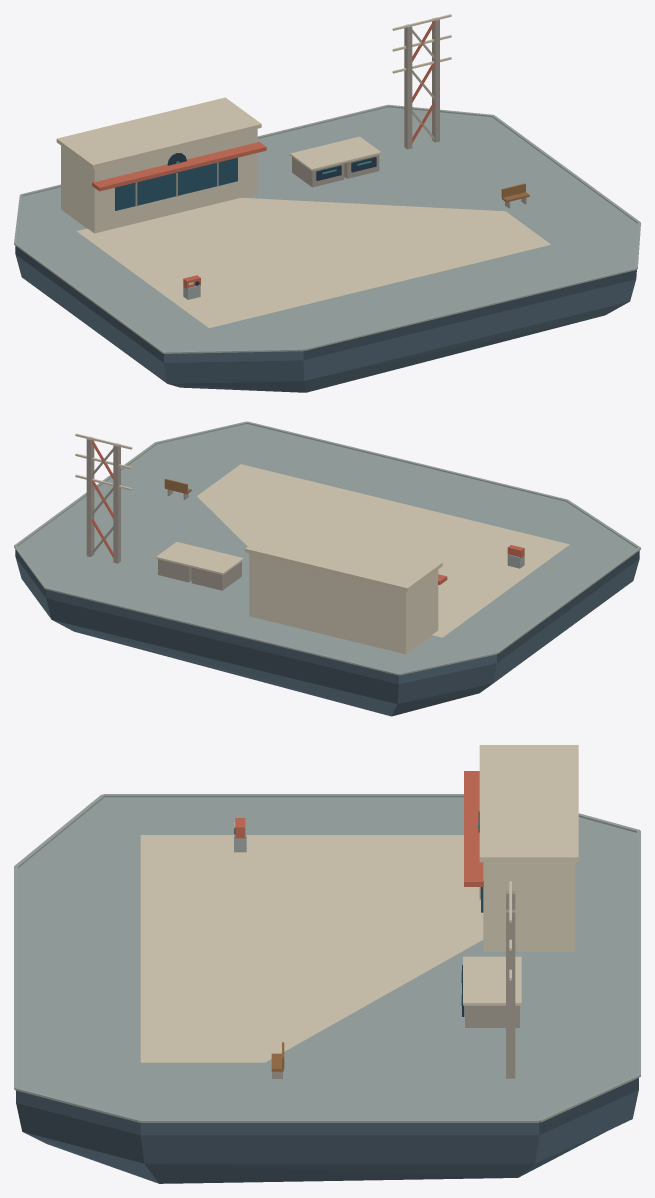
The model's file is fi18-radio-rooftop.glb.
The picture shows the model from 3 angles, top to bottom: view 1: azimuth 30°, elevation 25°; view 2: azimuth 150°, elevation 25°; view 3: azimuth 270°, elevation 25°; orthographic projection. The views are drawn at different scales.
Parts seen in each view (by area): view 1: GEO_ground, GEO_forecourt, GEO_foundation, LAND_0_studio, GEO_rim, LAND_1_lattice, LAND_2_mixdesk; view 2: GEO_ground, GEO_foundation, GEO_forecourt, LAND_0_studio, GEO_rim, LAND_1_lattice, LAND_2_mixdesk; view 3: GEO_ground, GEO_forecourt, GEO_foundation, LAND_0_studio, GEO_rim, LAND_2_mixdesk, LAND_1_lattice.
Boxes of the visible parts, x1,y1,x2,y2 form: GEO_ground: [17, 107, 637, 351]; GEO_forecourt: [77, 197, 550, 328]; GEO_foundation: [15, 246, 636, 392]; LAND_0_studio: [56, 97, 266, 233]; GEO_rim: [14, 104, 640, 353]; LAND_1_lattice: [392, 14, 451, 149]; LAND_2_mixdesk: [290, 136, 381, 187]; GEO_ground: [17, 424, 636, 672]; GEO_foundation: [15, 549, 639, 716]; GEO_forecourt: [197, 464, 569, 637]; LAND_0_studio: [245, 523, 447, 654]; GEO_rim: [14, 421, 640, 675]; LAND_1_lattice: [75, 433, 132, 563]; LAND_2_mixdesk: [156, 542, 243, 590]; GEO_ground: [18, 797, 636, 1119]; GEO_forecourt: [140, 835, 483, 1062]; GEO_foundation: [16, 1078, 638, 1183]; LAND_0_studio: [464, 745, 578, 951]; GEO_rim: [14, 794, 640, 1122]; LAND_2_mixdesk: [461, 956, 521, 1027]; LAND_1_lattice: [506, 881, 515, 1078].
Size of the model in its own units: 42.22 by 14.77 by 34.22.
